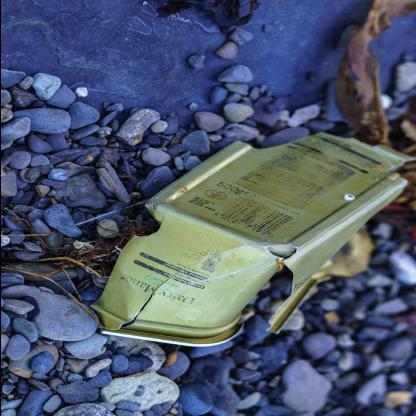plastik: (90, 131, 416, 350)
